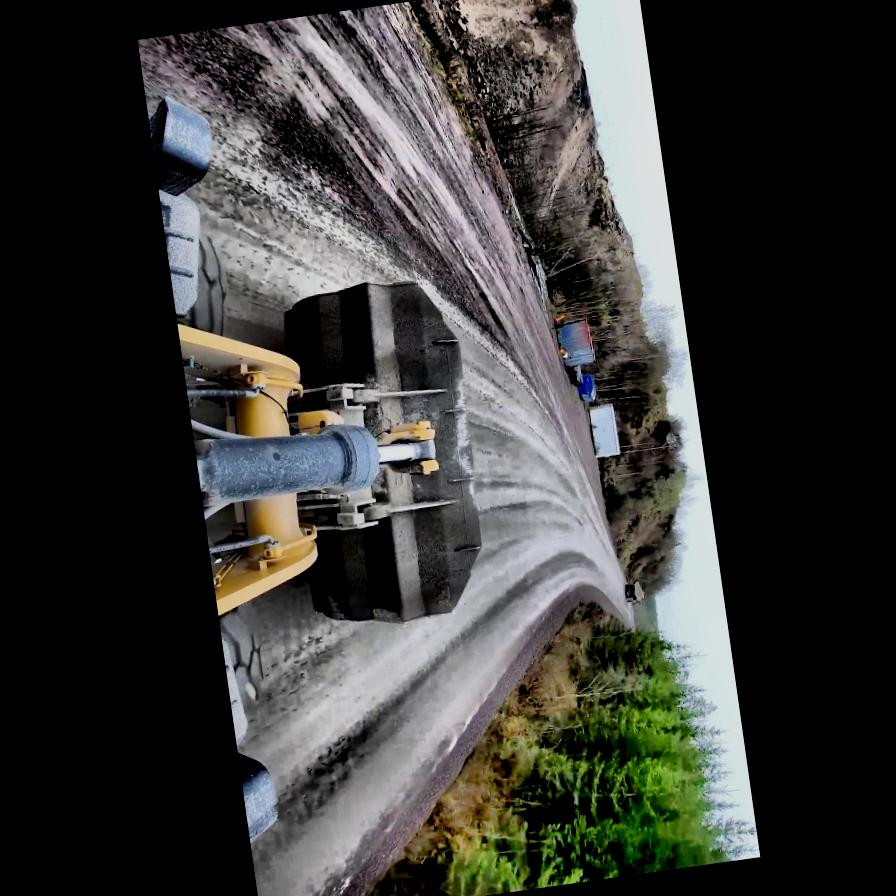anchor: (374, 418, 442, 480)
